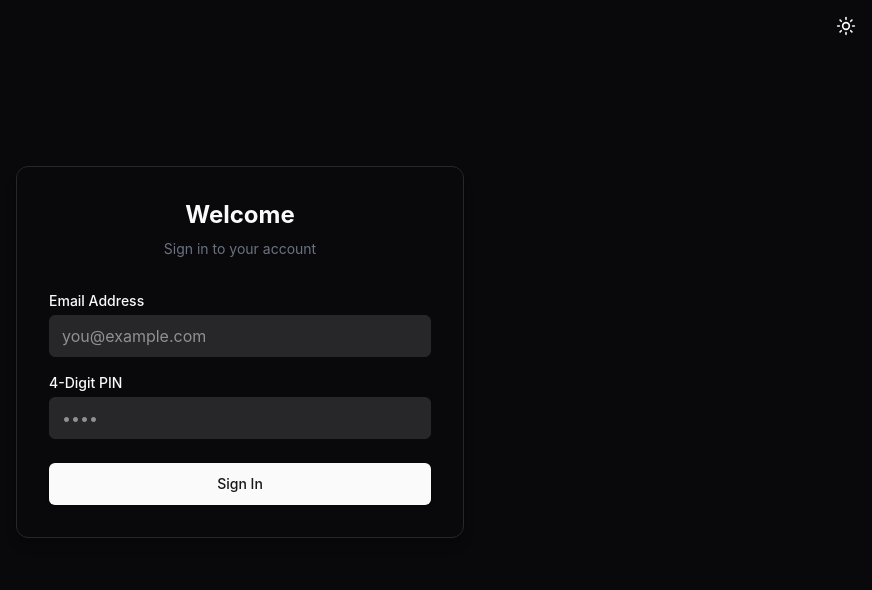
Test: LoginPage › should show error for invalid email
Type "invalid-email" into the field labelled "Email Address" at (240, 336), box x1=49 y1=315 x2=431 y2=357
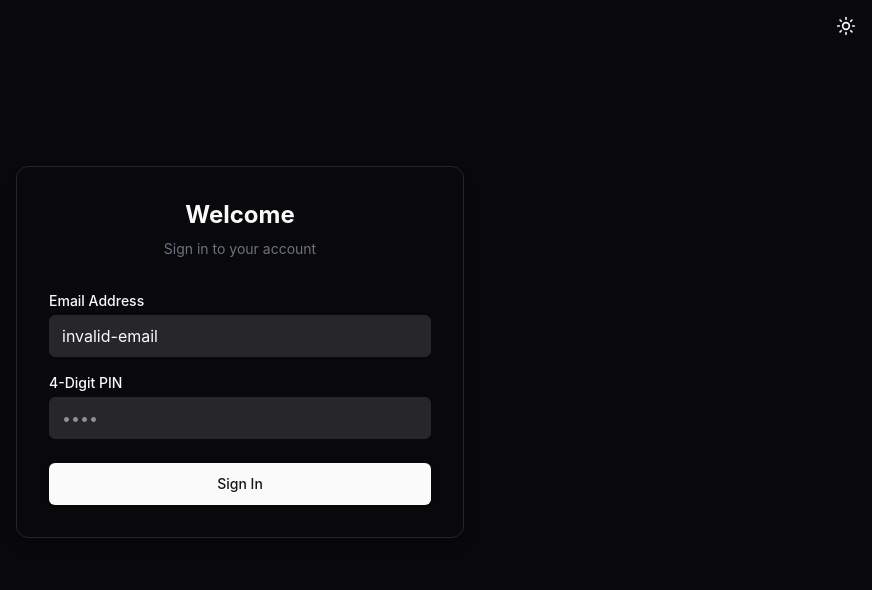
Type "1234" into the password field labelled "4-Digit PIN" at (240, 418), box x1=49 y1=397 x2=431 y2=439
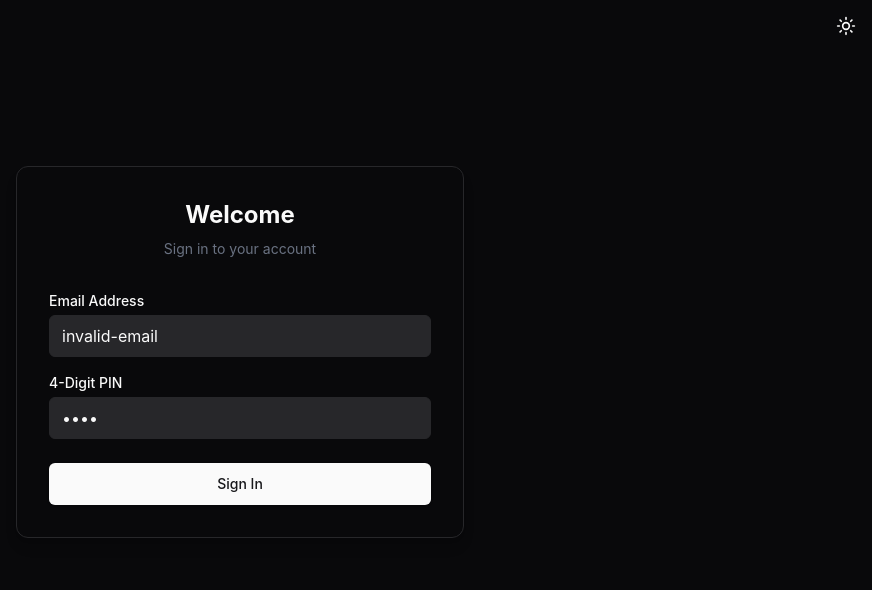
Click the button "Sign In" at (240, 484), box x1=49 y1=463 x2=431 y2=505
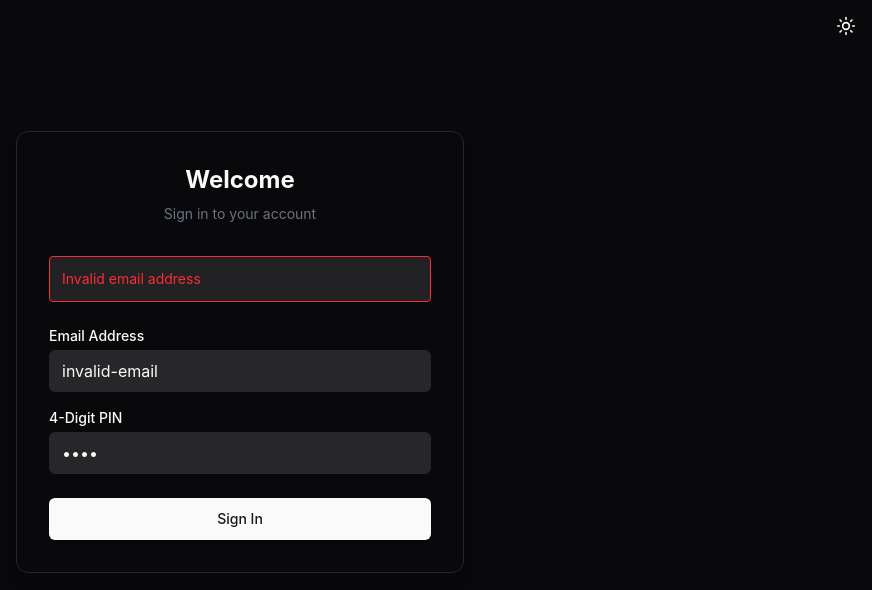
Now the text "Invalid email address" is shown, box x1=49 y1=256 x2=431 y2=302
